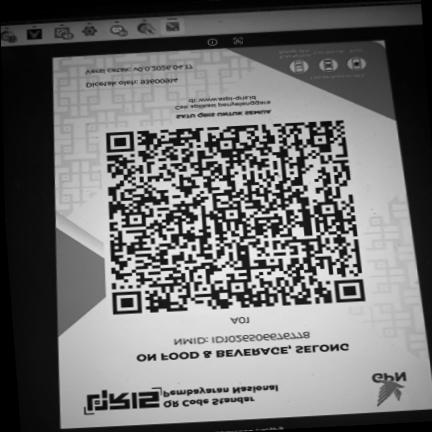Cara Pakai QRIS: (271, 40, 387, 85)
Cek Aplikasi Penyelenggara: (170, 93, 276, 111)
Dicetak Oleh: (83, 75, 183, 90)
Logo GPN: (361, 365, 417, 411)
Logo dan deskripsi QRIS: (73, 375, 294, 421)
Nama Merchant: (125, 339, 355, 368)
National Merchant ID: (124, 325, 352, 352)
QR Code: (92, 113, 377, 318)
Slogan: (171, 107, 276, 121)
Terminal ID: (225, 314, 257, 327)
Versi Cetak: (82, 62, 202, 78)
